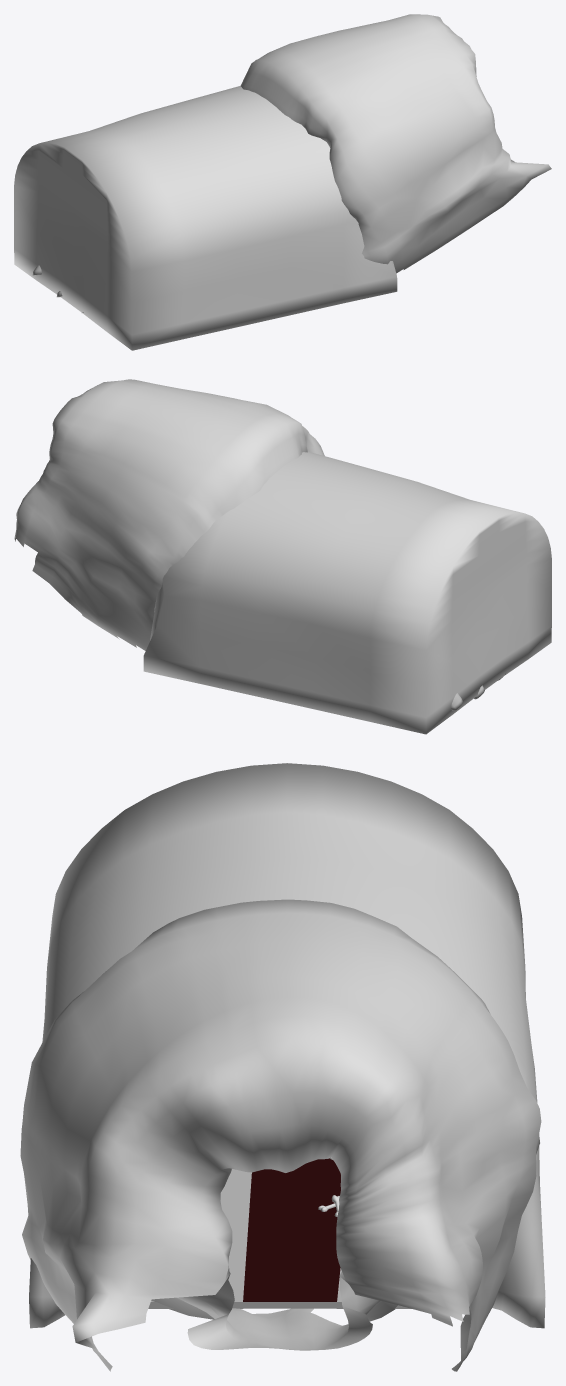
Rendered from PUZZLE_1_SERPI (1).fbx.
The picture shows the model from 3 angles, top to bottom: view 1: azimuth 30°, elevation 25°; view 2: azimuth 150°, elevation 25°; view 3: azimuth 270°, elevation 25°; orthographic projection. The views are drawn at different scales.
Parts seen in each view (by area): view 1: PAREDES; view 2: PAREDES; view 3: PAREDES, SUELO.
Boxes of the visible parts, bbox=[...] form: PAREDES: bbox=[14, 14, 551, 350]; PAREDES: bbox=[14, 379, 551, 734]; PAREDES: bbox=[20, 763, 545, 1371]; SUELO: bbox=[148, 1158, 411, 1308].
Size of the model in its own units: 27203 by 12384 by 14275.
